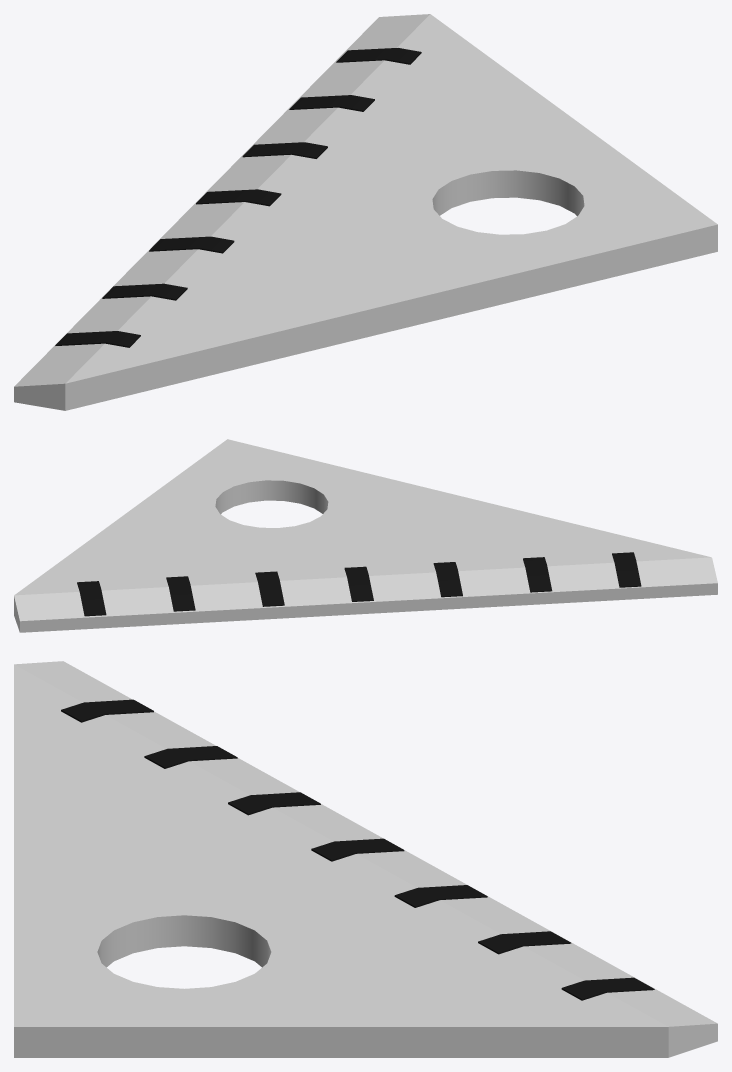
Rendered from triangle_ruler.fbx.
The picture shows the model from 3 angles, top to bottom: view 1: azimuth 30°, elevation 25°; view 2: azimuth 150°, elevation 25°; view 3: azimuth 270°, elevation 25°; orthographic projection. The views are drawn at different scales.
Visible parts, largest first — view 1: triangle_ruler, triangle_ruler.001; view 2: triangle_ruler, triangle_ruler.001; view 3: triangle_ruler, triangle_ruler.001.
Boxes of the visible parts, box(x1,y1,x2,y2) form: triangle_ruler: box(14, 14, 717, 410); triangle_ruler.001: box(55, 48, 421, 347); triangle_ruler: box(14, 439, 717, 632); triangle_ruler.001: box(77, 552, 641, 616); triangle_ruler: box(14, 661, 717, 1057); triangle_ruler.001: box(61, 699, 654, 1000).
Bounding box in the file's own units: 0.9815 × 0.0393 × 0.7704.
